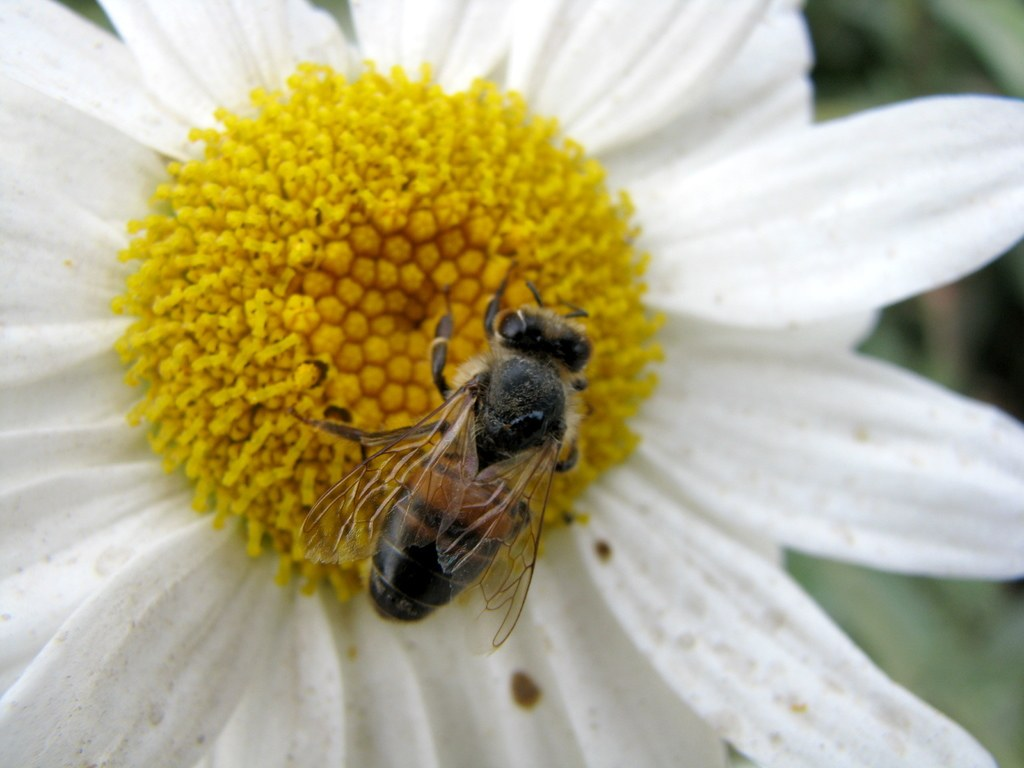bee: (292, 269, 592, 651)
insect: (41, 0, 883, 768)
